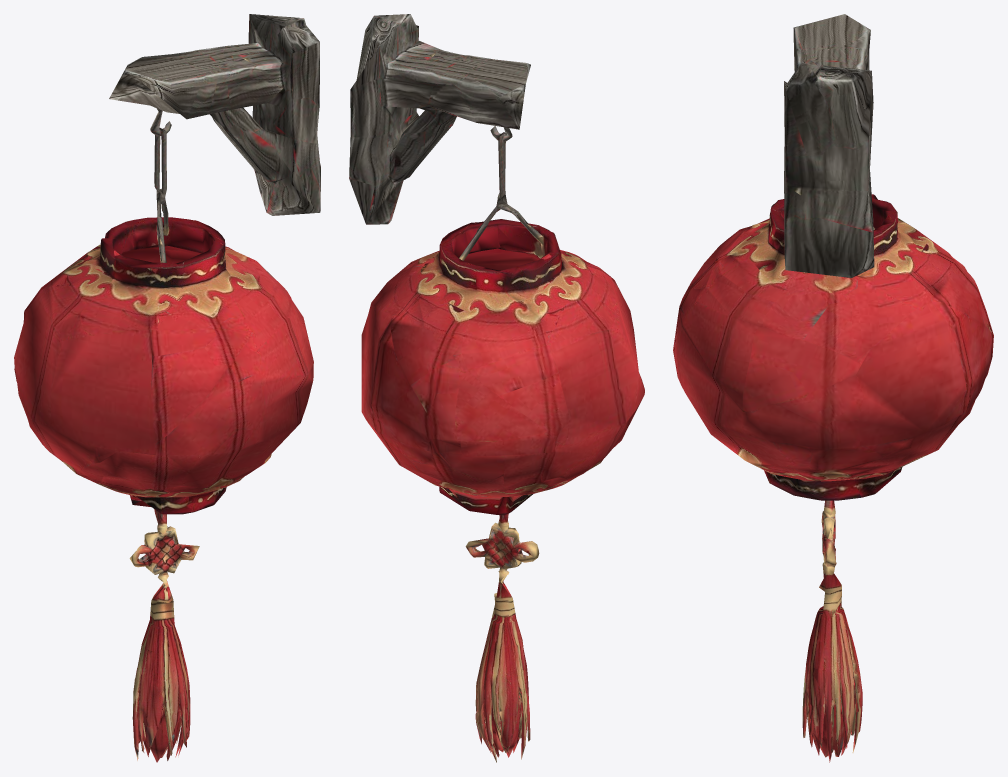
Rendered from lanterna.glb.
3 renders of one model, left to right at view 1: azimuth 30°, elevation 25°; view 2: azimuth 150°, elevation 25°; view 3: azimuth 270°, elevation 25°, orthographic. The views are drawn at different scales.
Parts seen in each view (by area): view 1: lanterna; view 2: lanterna; view 3: lanterna.
Part boxes in pixels (left/top/right/bottom): lanterna: left=14, top=14, right=320, bottom=762; lanterna: left=349, top=14, right=644, bottom=762; lanterna: left=673, top=14, right=993, bottom=762.
Size of the model in its own units: 0.7313 by 1.89 by 0.732.
Materials: 1 (1 with a texture image).
